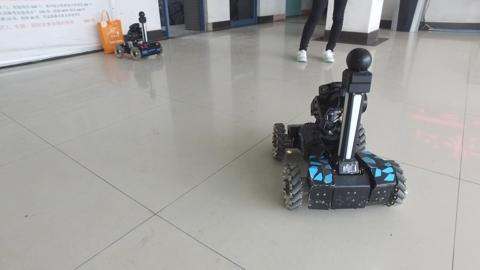bag: (95, 8, 125, 55)
chariot: (270, 46, 406, 211), (113, 10, 164, 61)
